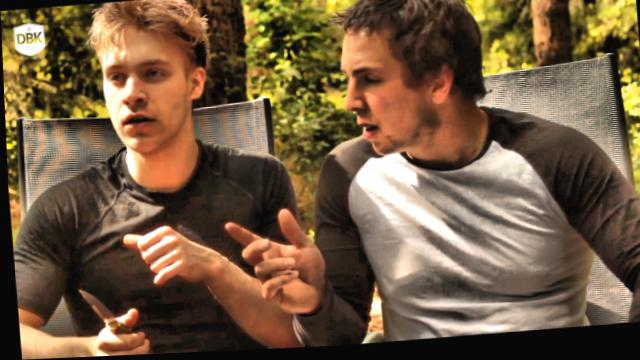knife: (67, 272, 151, 358)
